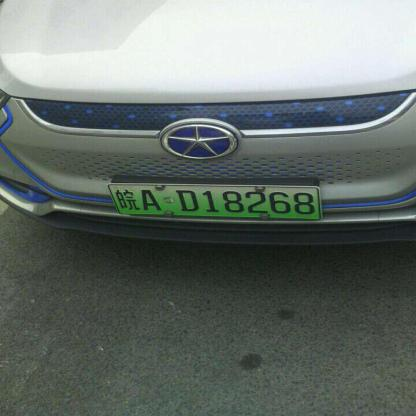lp: (107, 184, 320, 218)
